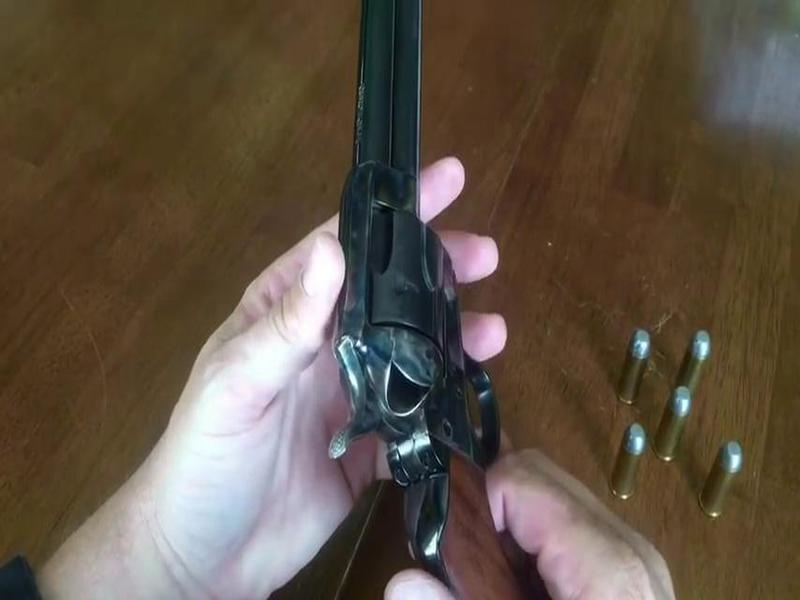Revolver: (323, 12, 556, 600)
